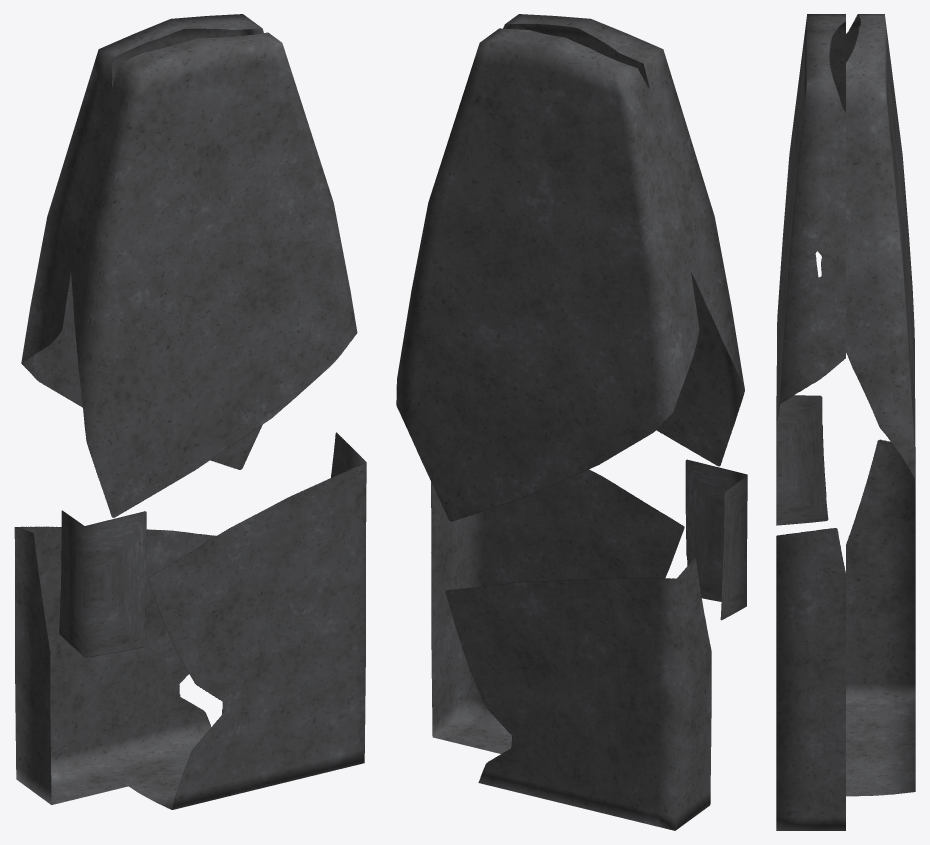
Rendered from stone_04.fbx.
The picture shows the model from 3 angles, left to right: view 1: azimuth 30°, elevation 25°; view 2: azimuth 150°, elevation 25°; view 3: azimuth 270°, elevation 25°; orthographic projection.
Visible parts, largest first — view 1: stone_04; view 2: stone_04; view 3: stone_04.
Part boxes in pixels (x1,y1,x2,y2): stone_04: [14, 14, 366, 809]; stone_04: [396, 14, 747, 830]; stone_04: [776, 14, 915, 830].
Bounding box in the file's own units: 43.35 × 108 × 18.77.
